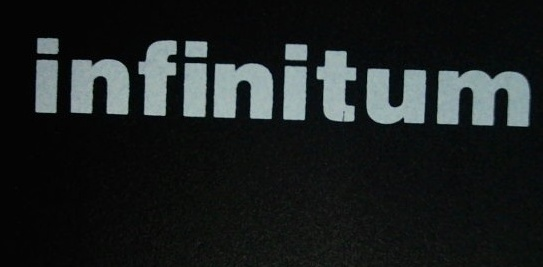BK_infinitum: (28, 33, 536, 129)
